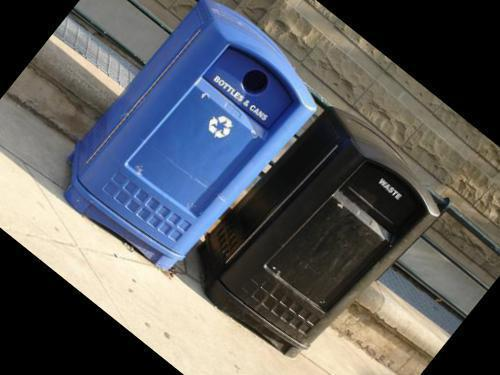Bote de Basura: (48, 0, 335, 289), (190, 100, 444, 368)
